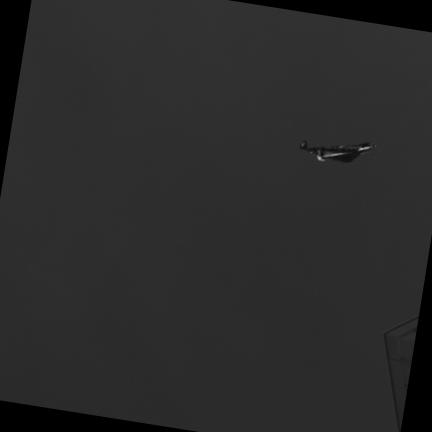Shahed: (301, 140, 375, 161)
